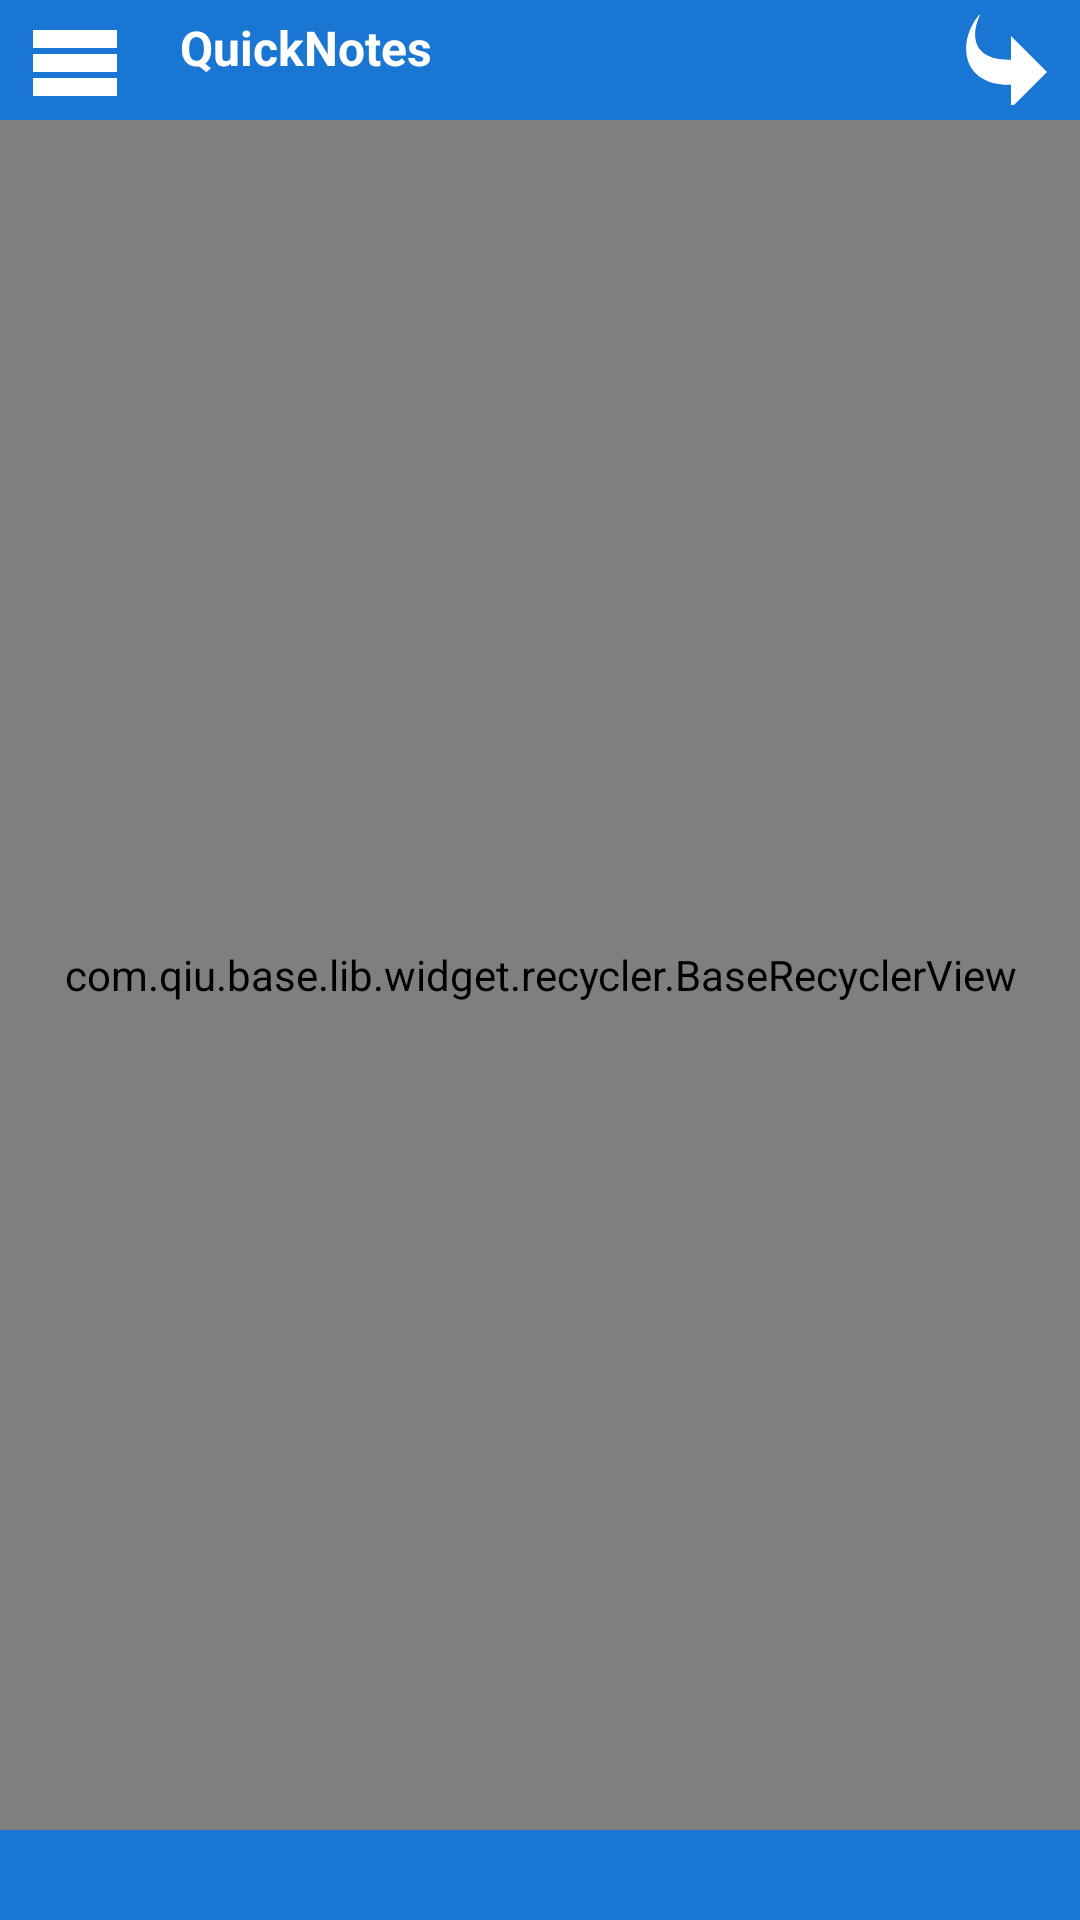

Icon click points for this 1080 x 1920 phone screenshot, format (x=x, y=y):
bar forward: (x=1006, y=60)
